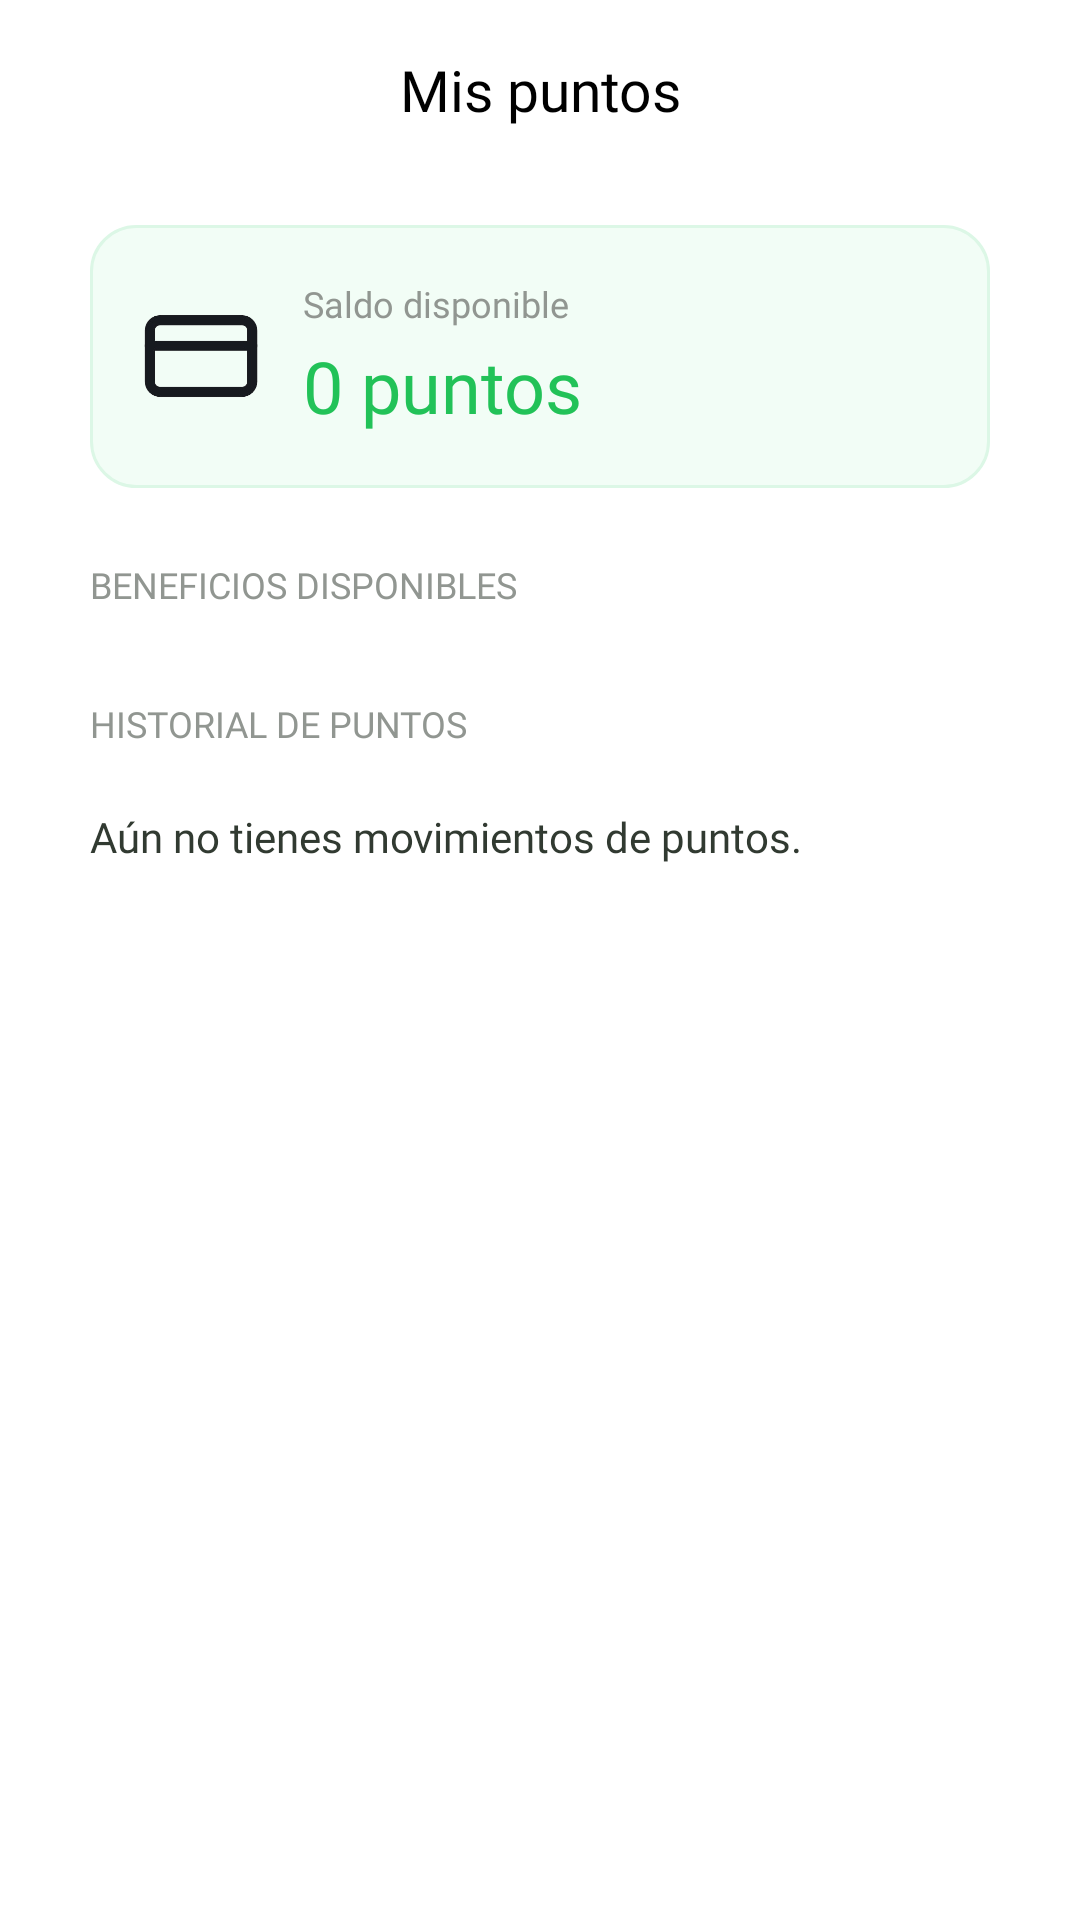

Screen size 1080*1920. Icon name, then its center in pixels as point (x, y):
Billetera: point (201, 356)
